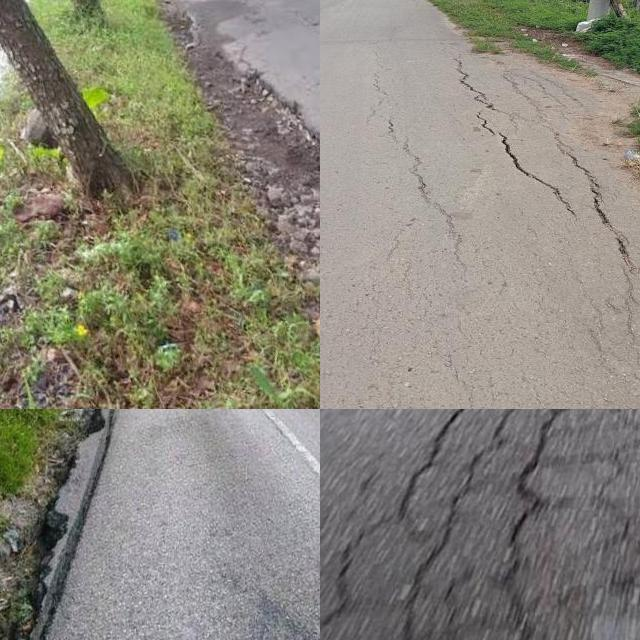Pinggir: (424, 20, 640, 352), (192, 48, 320, 326), (0, 409, 132, 640)
Retak Buaya: (320, 409, 640, 640)
